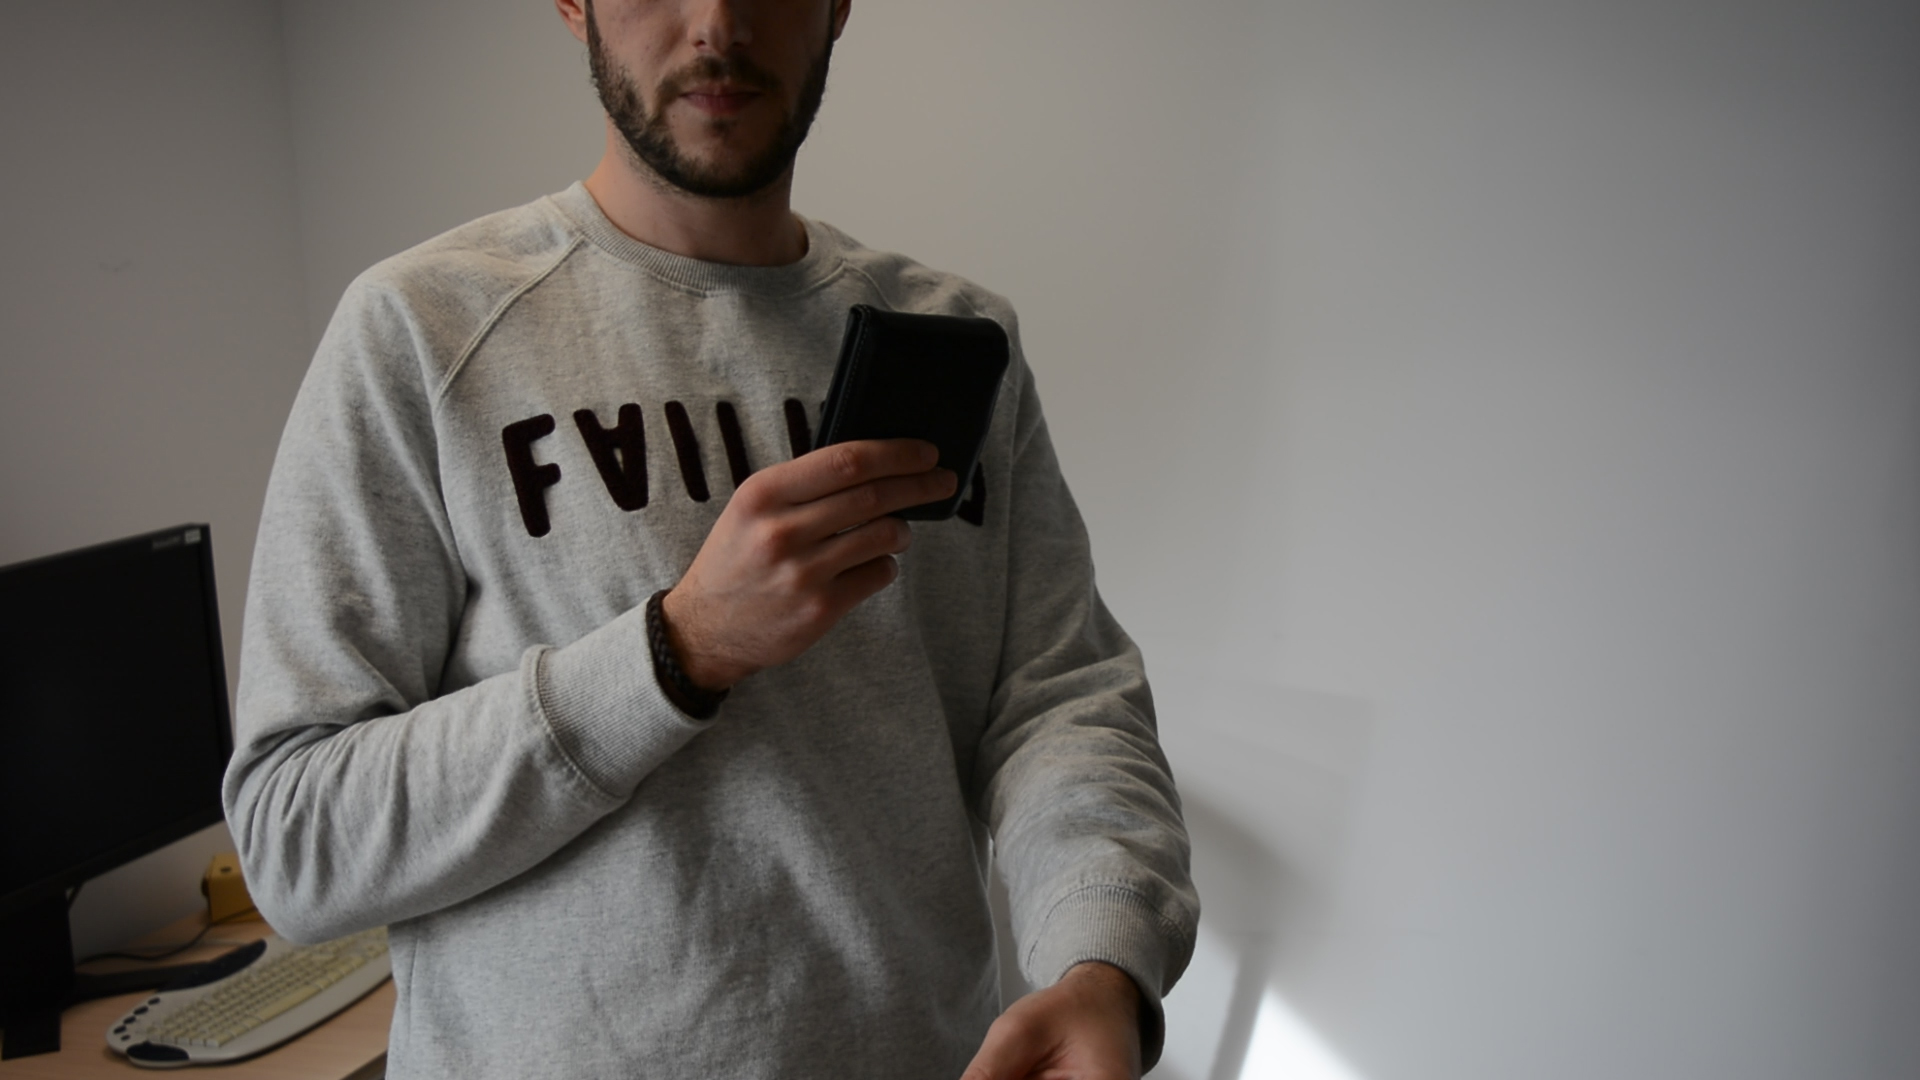monedero: (810, 303, 1013, 524)
